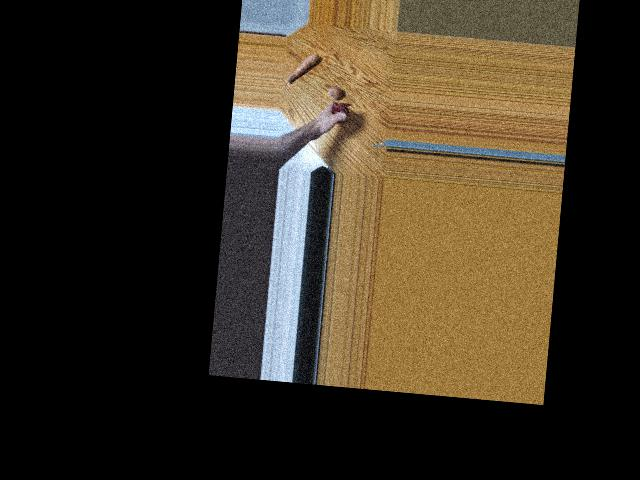onion: (321, 85, 340, 104)
